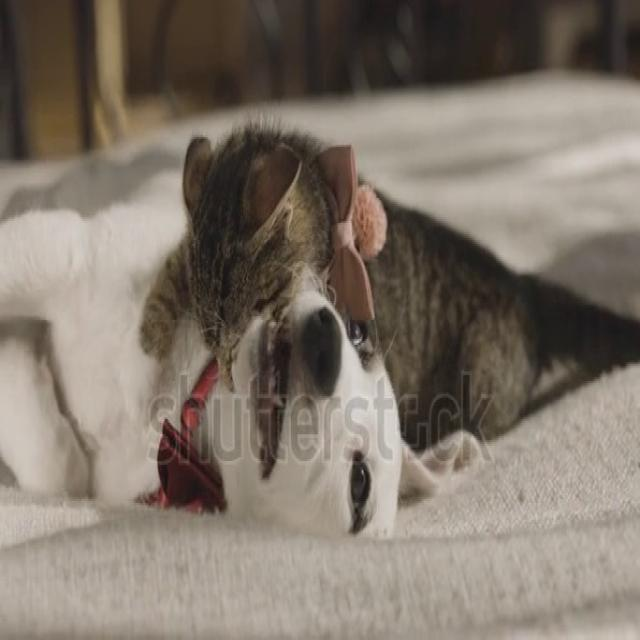normal_animals: (0, 112, 638, 545)
